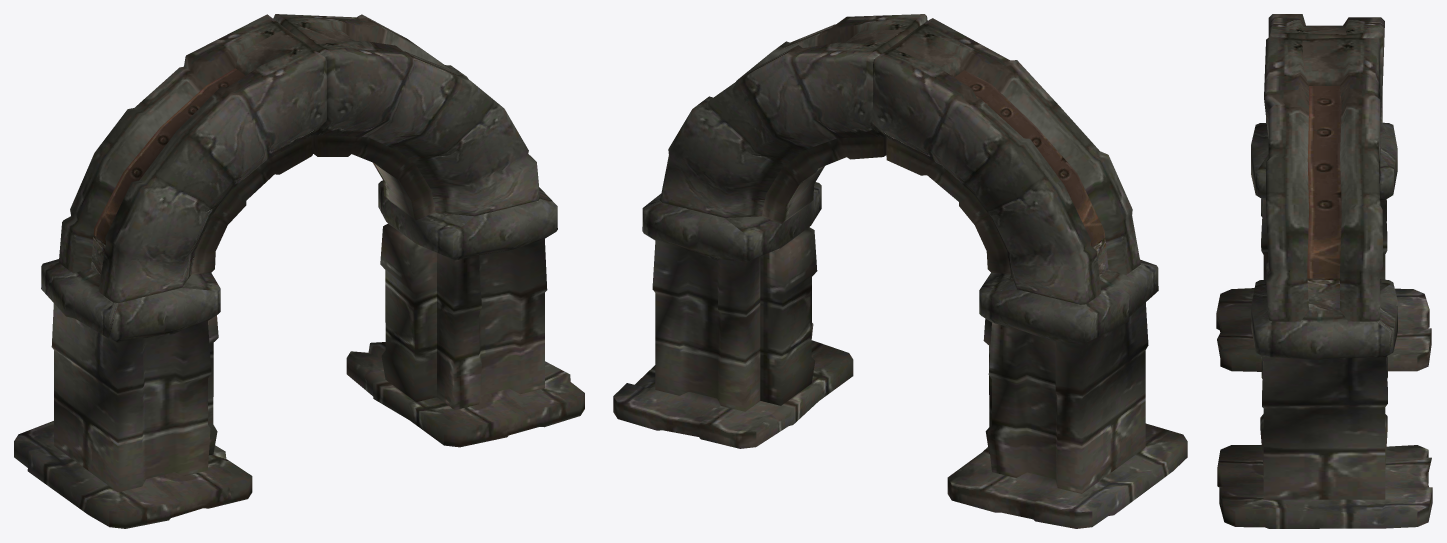
The model's file is h5_building_08.FBX.
3 views of the same model, side by side, from view 1: azimuth 30°, elevation 25°; view 2: azimuth 150°, elevation 25°; view 3: azimuth 270°, elevation 25° (orthographic). The views are drawn at different scales.
Visible parts, largest first — view 1: h5_building_08; view 2: h5_building_08; view 3: h5_building_08.
Part boxes in pixels (box(x1,y1,x2,y2)): h5_building_08: box(14, 14, 584, 528); h5_building_08: box(613, 14, 1187, 528); h5_building_08: box(1216, 14, 1432, 528).
Bounding box in the file's own units: 10.04 × 7.89 × 4.05.
Materials: 1 (1 with a texture image).
